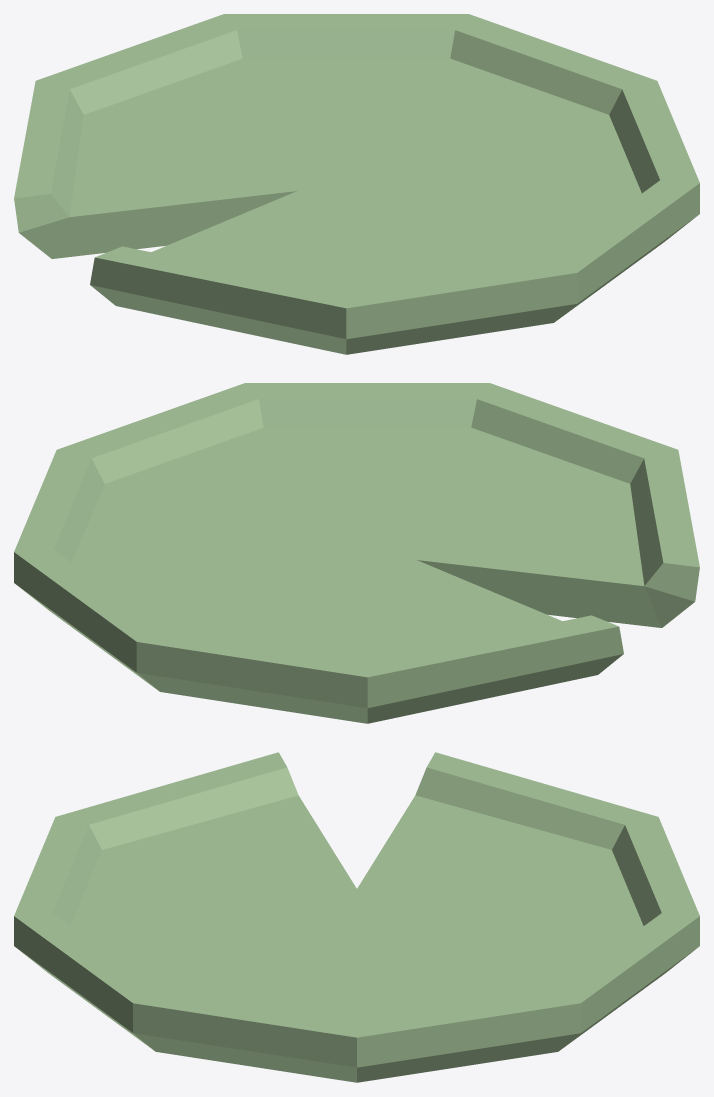
File: LilyPad2.fbx
The picture shows the model from 3 angles, top to bottom: view 1: azimuth 30°, elevation 25°; view 2: azimuth 150°, elevation 25°; view 3: azimuth 270°, elevation 25°; orthographic projection. The views are drawn at different scales.
Visible parts, largest first — view 1: LilyPad2; view 2: LilyPad2; view 3: LilyPad2.
Boxes of the visible parts, <box> form: LilyPad2: <box>14,14,699,354</box>; LilyPad2: <box>14,383,699,723</box>; LilyPad2: <box>14,752,699,1082</box>.
Size of the model in its own units: 1.94 by 0.19 by 1.97.
